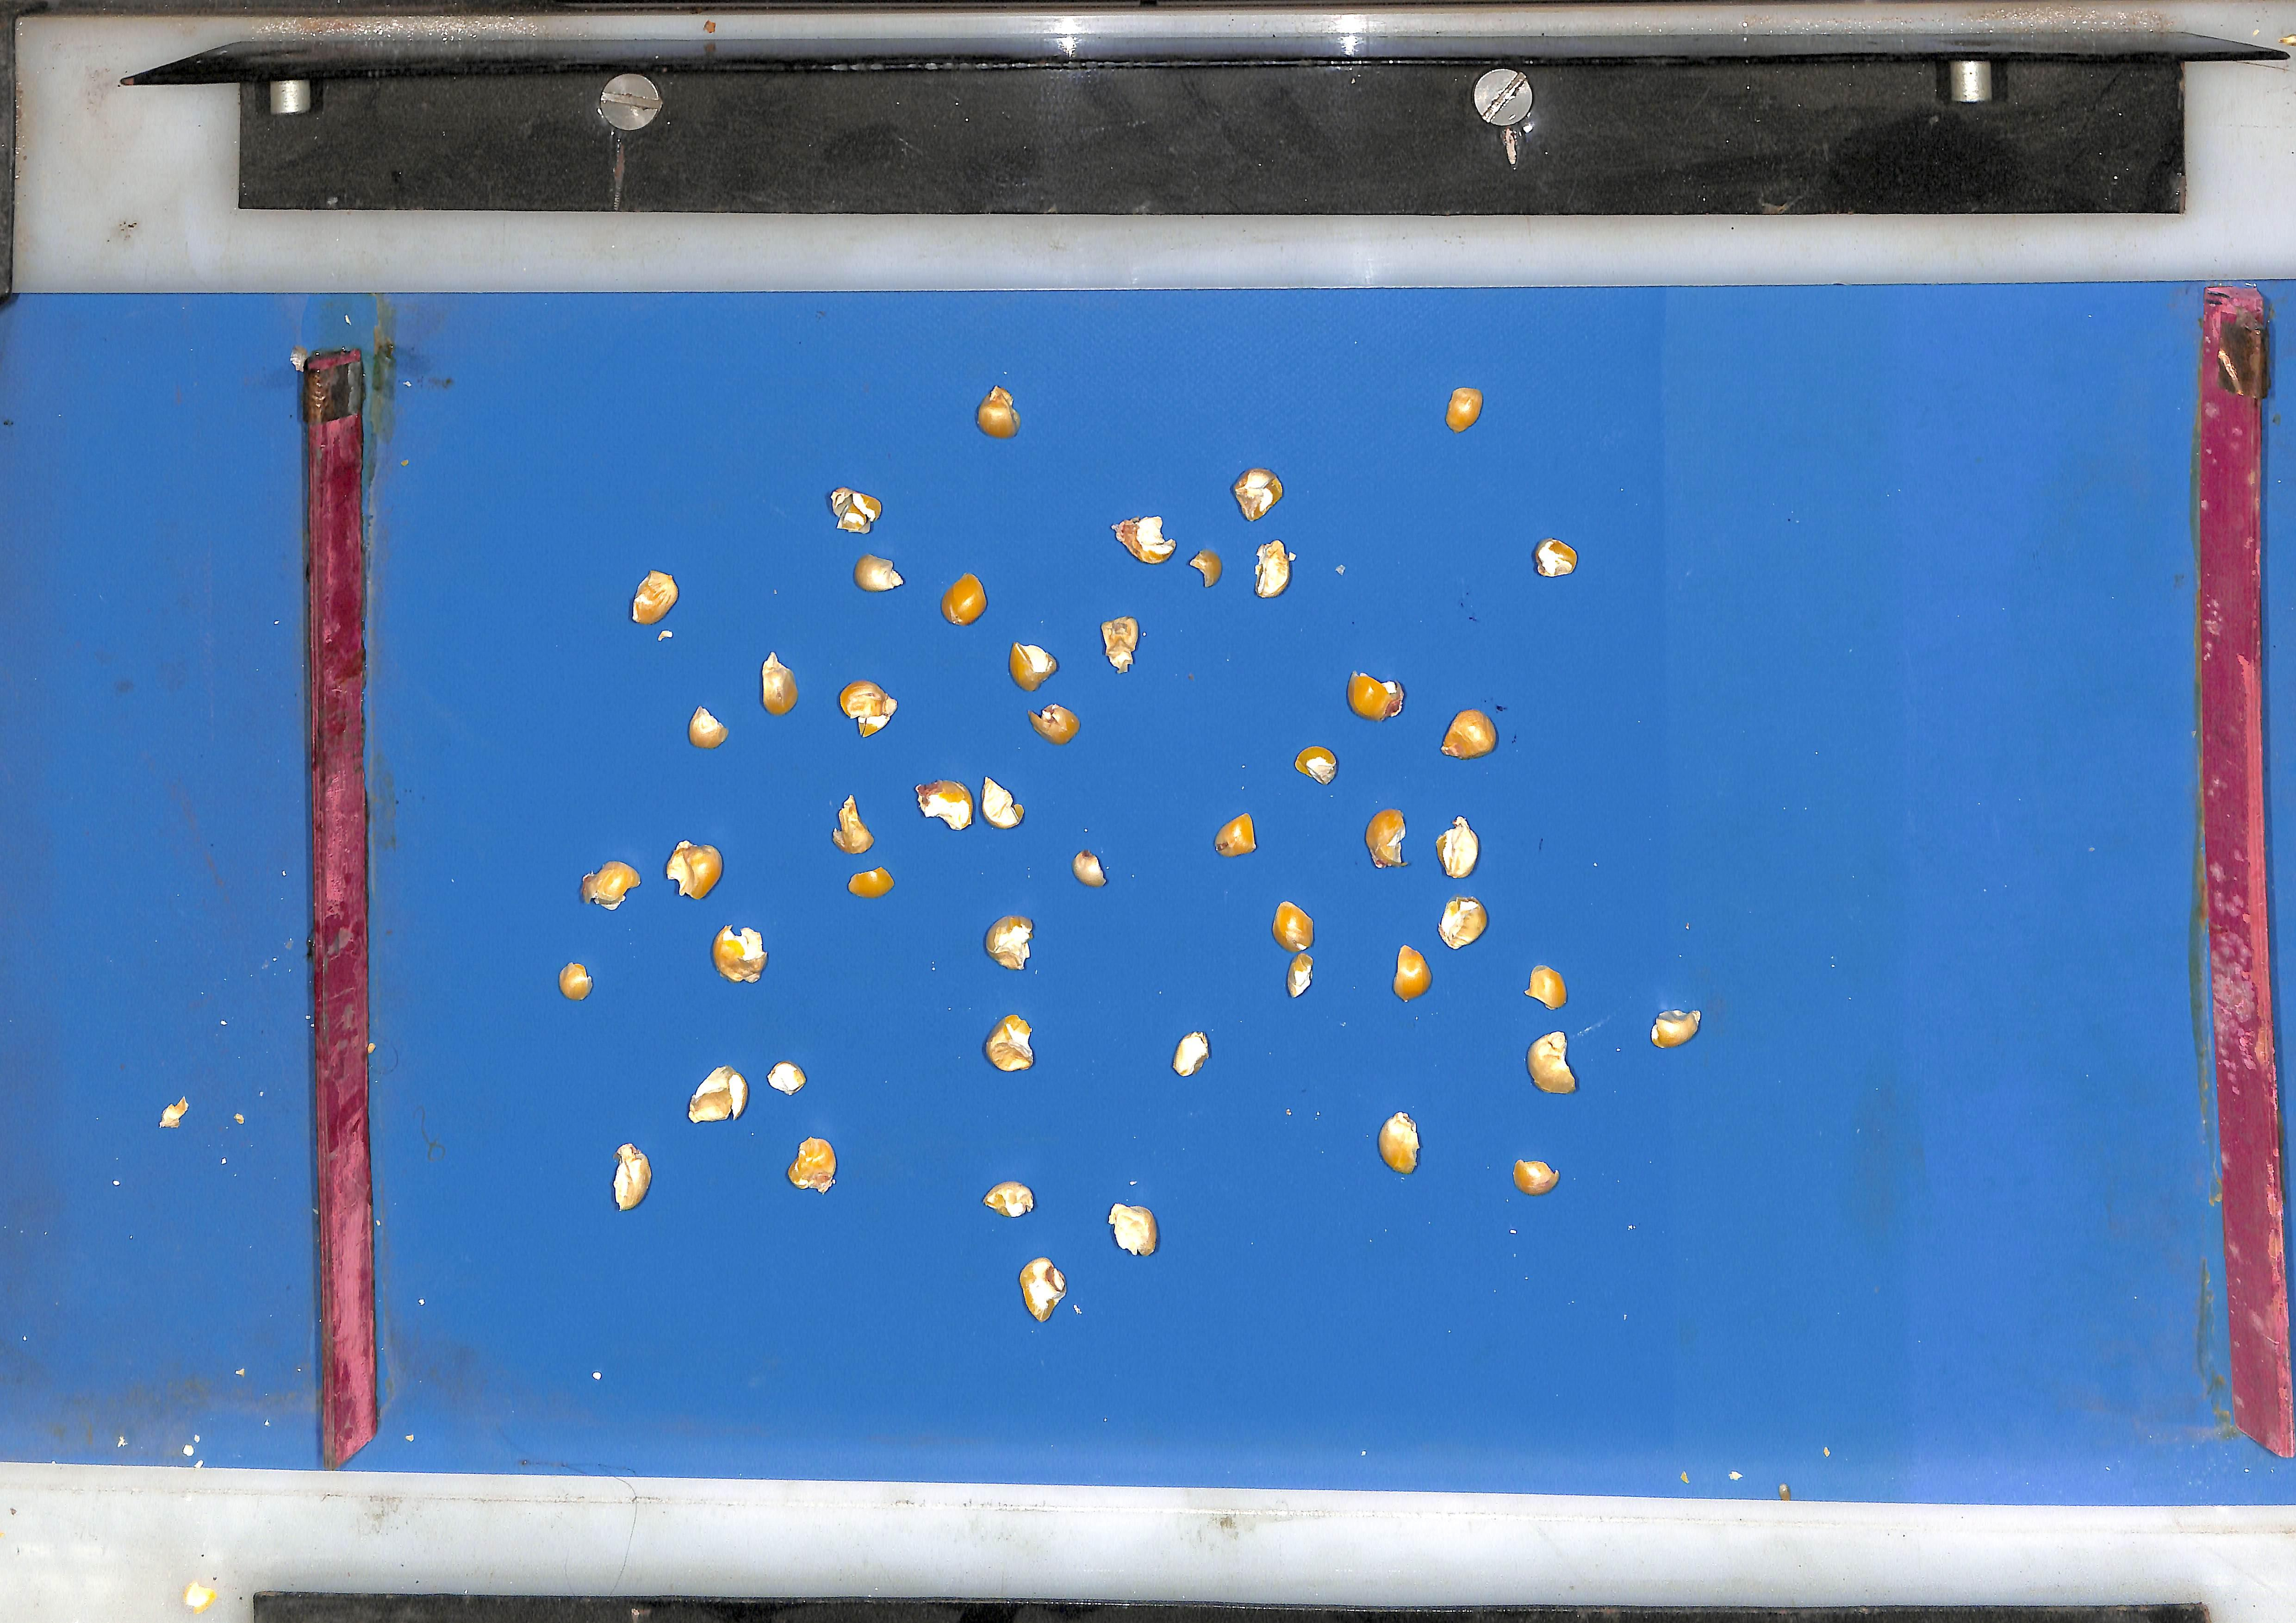Dm: (687, 1066, 747, 1124), (665, 840, 722, 899), (838, 679, 897, 736), (1529, 1031, 1578, 1094), (711, 926, 766, 982), (1019, 1259, 1066, 1323), (1113, 514, 1176, 562), (579, 860, 639, 909), (915, 779, 972, 830), (984, 1015, 1033, 1072), (1348, 671, 1406, 719), (1443, 708, 1499, 757), (1233, 466, 1284, 519), (786, 1138, 835, 1193), (984, 915, 1033, 970), (1438, 816, 1481, 878), (611, 1144, 650, 1212), (1109, 1205, 1158, 1257), (1379, 1113, 1421, 1175), (1440, 897, 1490, 949), (828, 486, 882, 532), (630, 569, 676, 622), (831, 795, 873, 853), (1009, 642, 1058, 690), (1367, 808, 1407, 867), (976, 383, 1020, 437), (759, 652, 797, 714), (941, 573, 986, 624), (980, 776, 1024, 828), (1273, 900, 1315, 953), (1101, 615, 1140, 670), (1394, 945, 1433, 1000), (1029, 703, 1080, 743), (1257, 539, 1292, 596), (1652, 1011, 1704, 1049), (983, 1182, 1035, 1218), (853, 553, 902, 590), (1216, 813, 1257, 856), (1528, 967, 1568, 1009), (687, 705, 727, 748), (1536, 537, 1580, 575), (1448, 385, 1484, 431), (1173, 1031, 1210, 1077), (1296, 745, 1338, 783), (1515, 1162, 1561, 1196), (847, 868, 893, 898), (1189, 548, 1223, 585), (556, 963, 590, 1001), (1288, 952, 1315, 998), (1072, 850, 1107, 886), (767, 1061, 805, 1094)
